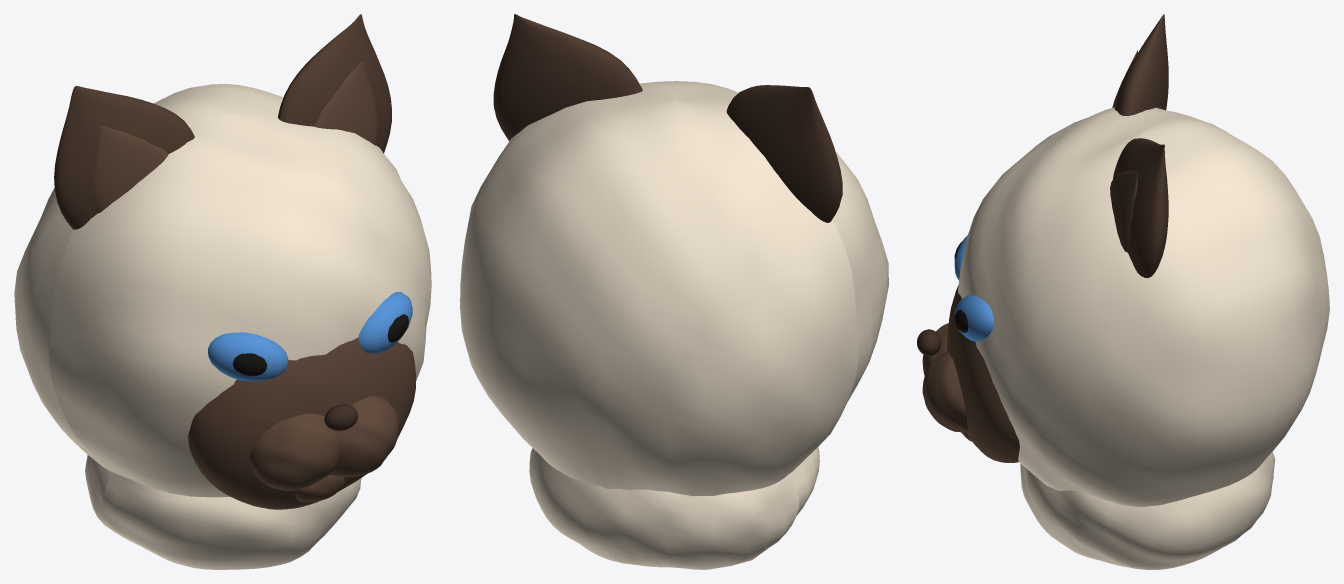
Rendered from head-cat-siamese.glb.
The picture shows the model from 3 angles, left to right: view 1: azimuth 30°, elevation 25°; view 2: azimuth 150°, elevation 25°; view 3: azimuth 270°, elevation 25°; orthographic projection. The views are drawn at different scales.
Parts seen in each view (by area): view 1: PM_FUR_MAIN_1, PM_FUR_SECONDARY_2, PM_FUR_MAIN_15, PM_EARS_11, PM_EARS_13, PM_FUR_SECONDARY_3, PM_FUR_SECONDARY_12, PM_FUR_SECONDARY_4, PM_FUR_SECONDARY_14, PM_EYES_6, PM_EYES_8, PM_FUR_SECONDARY_5 (+2 smaller); view 2: PM_FUR_MAIN_1, PM_FUR_MAIN_15, PM_EARS_13, PM_EARS_11; view 3: PM_FUR_MAIN_1, PM_FUR_MAIN_15, PM_FUR_SECONDARY_2, PM_EARS_13, PM_EARS_11, PM_FUR_SECONDARY_4, PM_FUR_SECONDARY_14, PM_EYES_8, PM_NOSE_10.
Part boxes in pixels (box(x1,y1,x2,y2)): PM_FUR_MAIN_1: box(14, 84, 431, 497); PM_FUR_SECONDARY_2: box(188, 337, 415, 509); PM_FUR_MAIN_15: box(85, 455, 361, 569); PM_EARS_11: box(54, 86, 194, 229); PM_EARS_13: box(278, 14, 391, 153); PM_FUR_SECONDARY_3: box(249, 413, 340, 490); PM_FUR_SECONDARY_12: box(93, 125, 168, 213); PM_FUR_SECONDARY_4: box(330, 396, 399, 477); PM_FUR_SECONDARY_14: box(314, 61, 378, 145); PM_EYES_6: box(208, 332, 288, 381); PM_EYES_8: box(358, 292, 412, 353); PM_FUR_SECONDARY_5: box(295, 474, 344, 502); PM_FUR_MAIN_1: box(460, 81, 888, 496); PM_FUR_MAIN_15: box(529, 447, 819, 569); PM_EARS_13: box(493, 14, 642, 140); PM_EARS_11: box(726, 85, 842, 222); PM_FUR_MAIN_1: box(958, 107, 1329, 506); PM_FUR_MAIN_15: box(1020, 452, 1275, 569); PM_FUR_SECONDARY_2: box(947, 285, 1019, 462); PM_EARS_13: box(1113, 138, 1168, 277); PM_EARS_11: box(1114, 14, 1168, 115); PM_FUR_SECONDARY_4: box(922, 351, 968, 432); PM_FUR_SECONDARY_14: box(1110, 170, 1137, 252); PM_EYES_8: box(954, 295, 993, 341); PM_NOSE_10: box(917, 329, 941, 355).
Bounding box in the file's own units: 0.0637 × 0.0841 × 0.0666.
